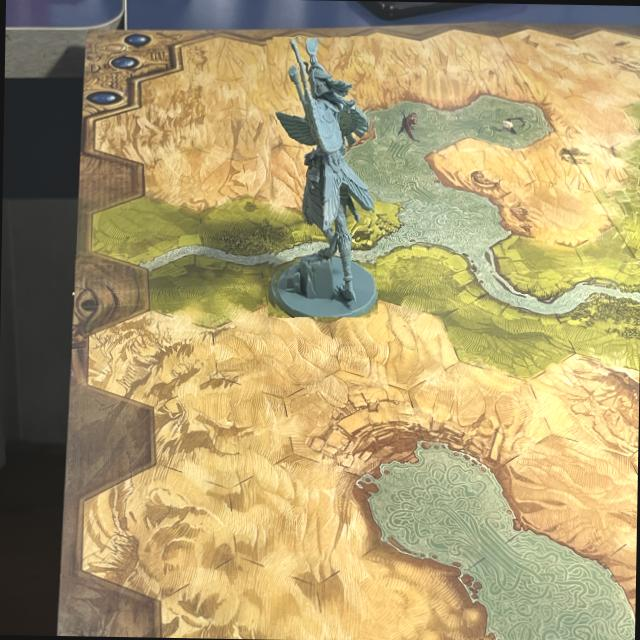isis: (264, 34, 378, 318)
